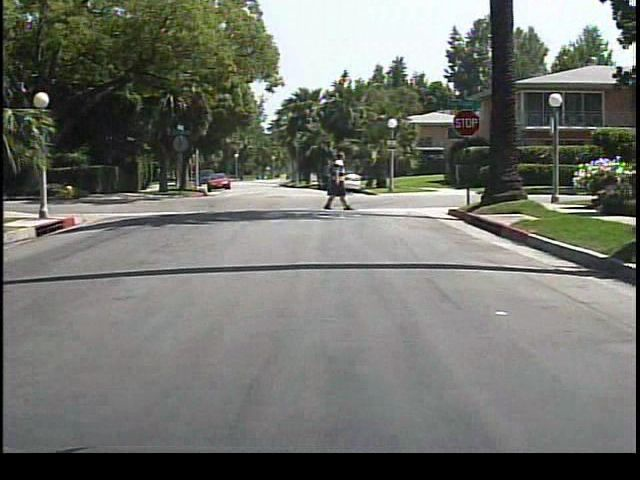person: (320, 149, 346, 211)
